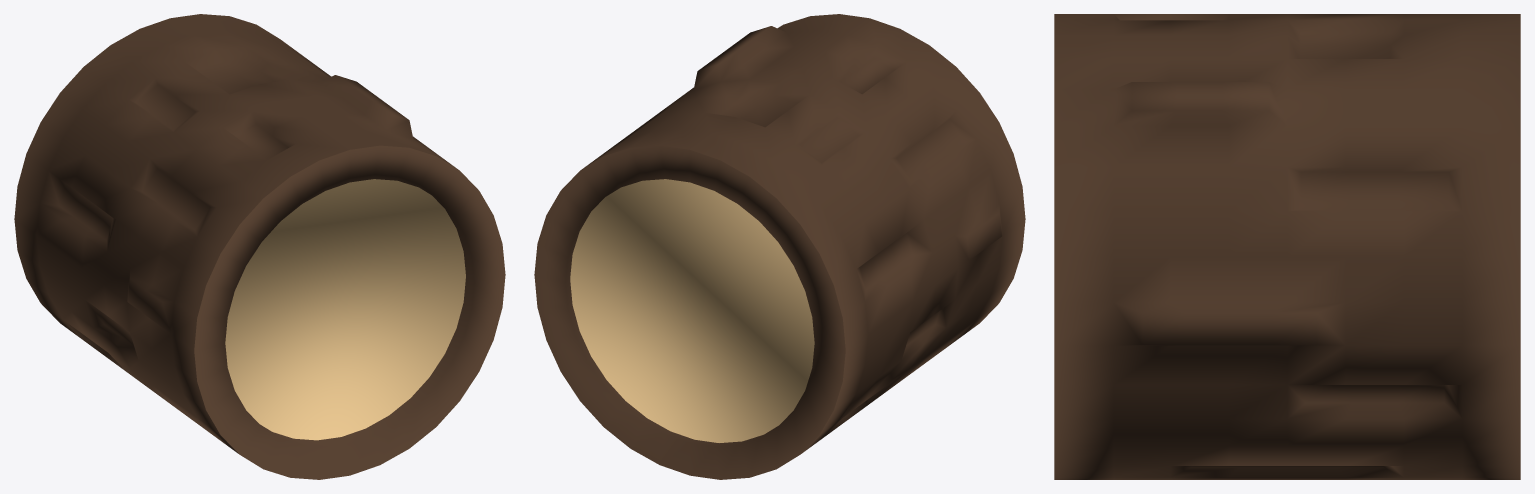
File: log.glb
3 renders of one model, left to right at view 1: azimuth 30°, elevation 25°; view 2: azimuth 150°, elevation 25°; view 3: azimuth 270°, elevation 25°, orthographic. The views are drawn at different scales.
Visible parts, largest first — view 1: Cylinder; view 2: Cylinder; view 3: Cylinder.
Part boxes in pixels (x1=…): Cylinder: x1=14, y1=14, x2=505, y2=479; Cylinder: x1=534, y1=14, x2=1025, y2=479; Cylinder: x1=1054, y1=14, x2=1520, y2=479.
Size of the model in its own units: 1.05 by 1.02 by 1.
